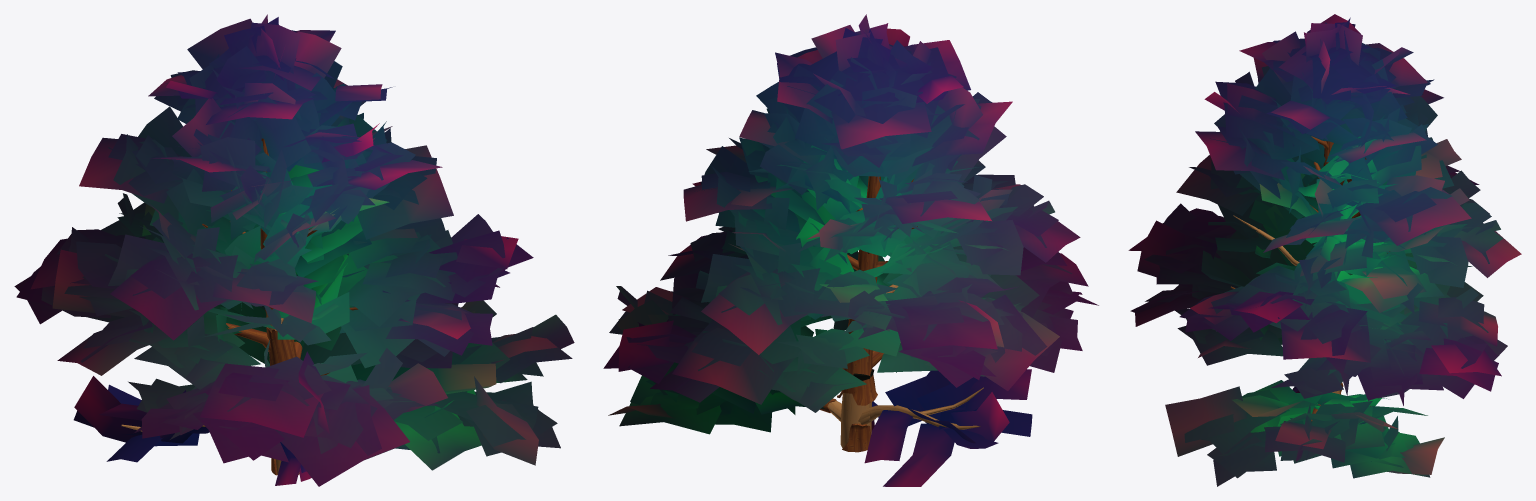
The model's file is obj_harvests_trees_pine01_p11.fbx.
3 renders of one model, left to right at view 1: azimuth 30°, elevation 25°; view 2: azimuth 150°, elevation 25°; view 3: azimuth 270°, elevation 25°, orthographic. The views are drawn at different scales.
Visible parts, largest first — view 1: obj_harvests_trees_pine01_p011; view 2: obj_harvests_trees_pine01_p011; view 3: obj_harvests_trees_pine01_p011.
Boxes of the visible parts, bbox=[...] form: obj_harvests_trees_pine01_p011: bbox=[14, 14, 574, 486]; obj_harvests_trees_pine01_p011: bbox=[603, 14, 1098, 486]; obj_harvests_trees_pine01_p011: bbox=[1128, 14, 1521, 486].
Size of the model in its own units: 53.14 by 47.87 by 44.59.
